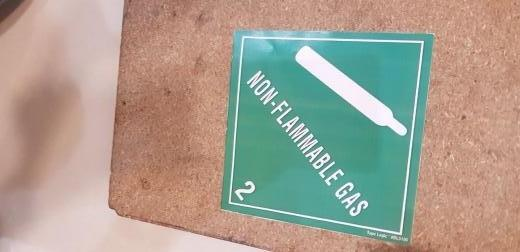non-flammable-gas: (223, 27, 433, 246)
